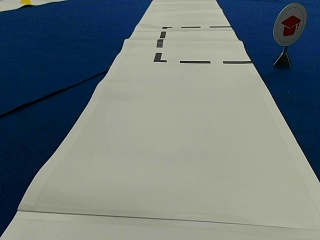school: (272, 3, 306, 45)
